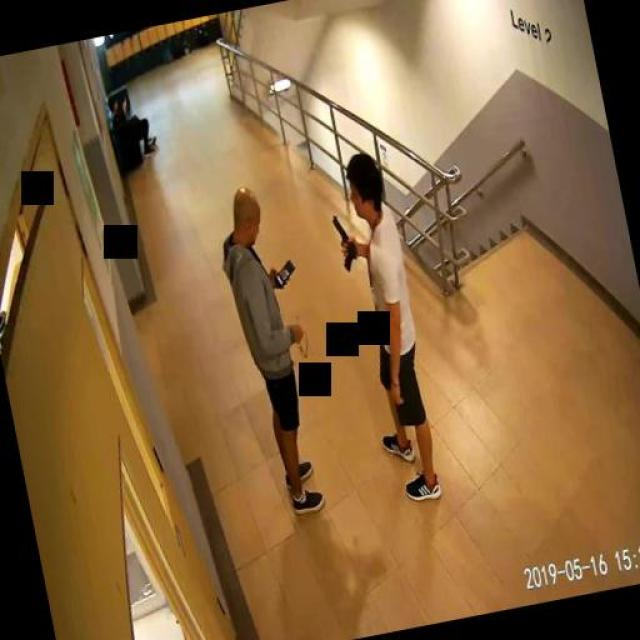gun: (329, 208, 360, 270)
